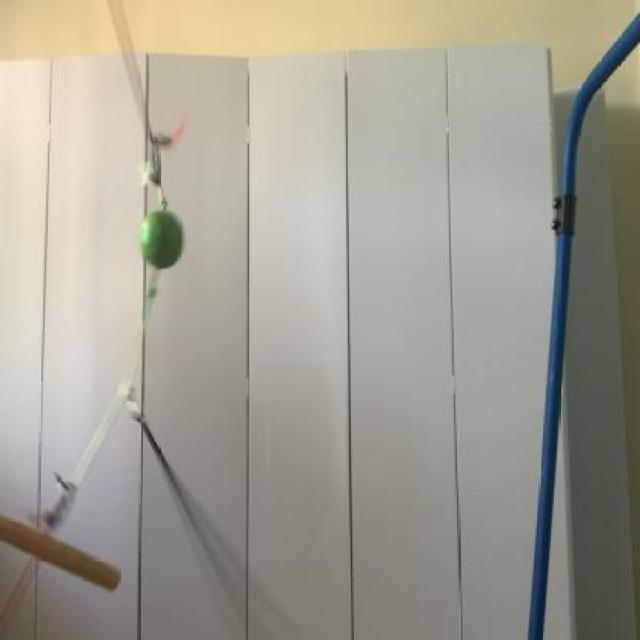baseball: (141, 204, 188, 262)
